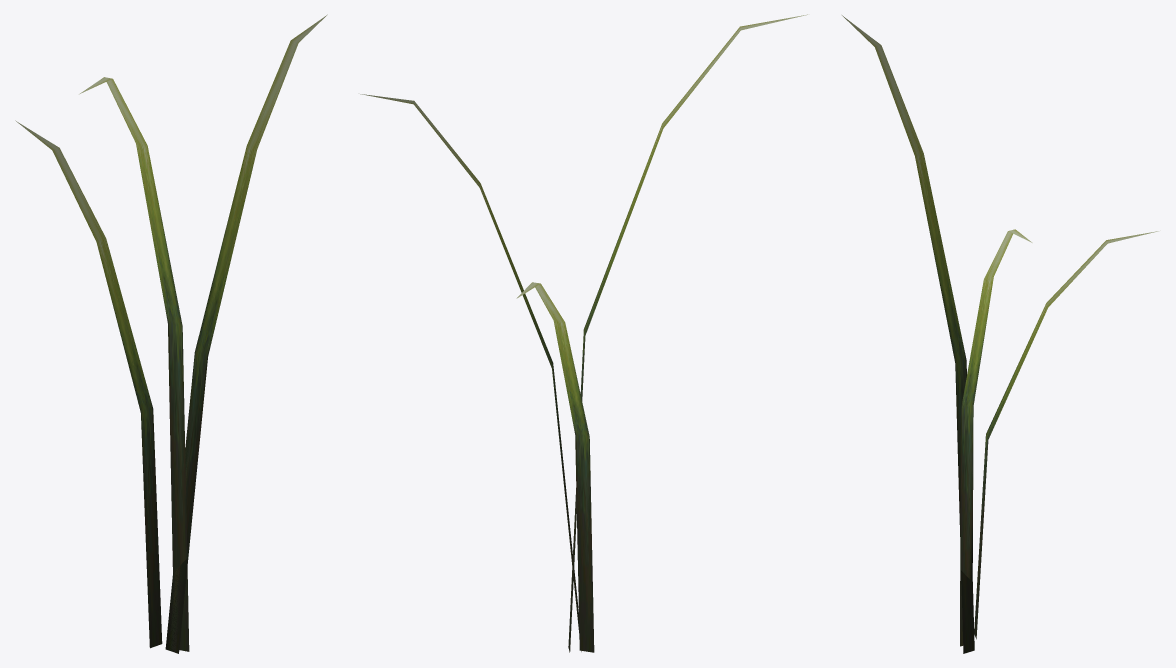
Rendered from swmp_shor_cattail_med_l0.fbx.
3 views of the same model, side by side, from view 1: azimuth 30°, elevation 25°; view 2: azimuth 150°, elevation 25°; view 3: azimuth 270°, elevation 25° (orthographic). The views are drawn at different scales.
Parts seen in each view (by area): view 1: mesh_node; view 2: mesh_node; view 3: mesh_node.
Boxes of the visible parts, box(x1,y1,x2,y2) form: mesh_node: box(15, 14, 327, 653); mesh_node: box(360, 14, 807, 652); mesh_node: box(842, 15, 1158, 653).
Size of the model in its own units: 1.44 by 2.49 by 1.28.
